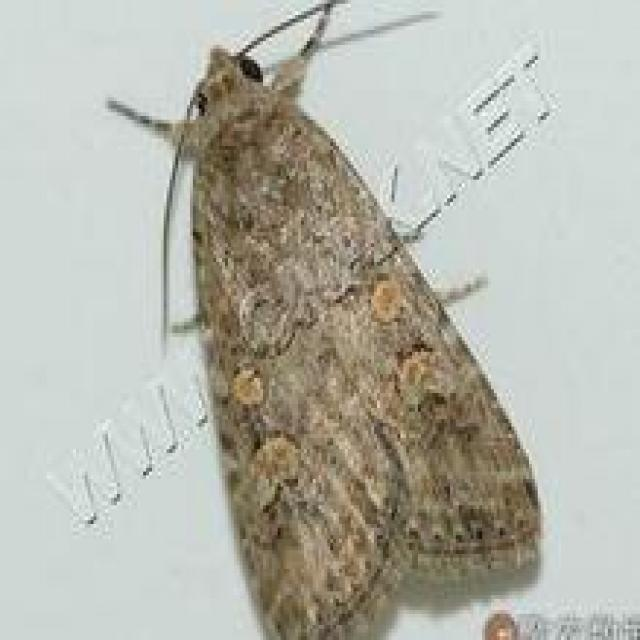BeetArmyWorm-Adult-: (99, 19, 586, 630)
